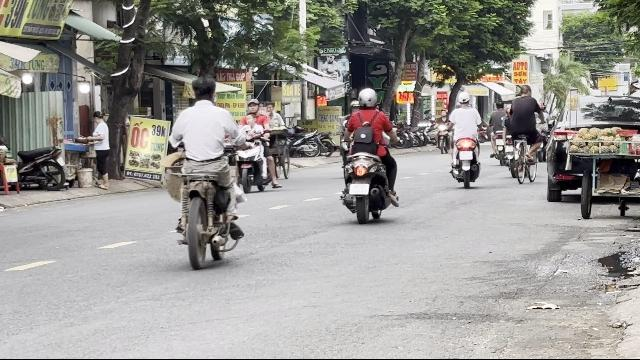helmet: (357, 87, 379, 108), (246, 97, 260, 115)
licenseplate: (349, 184, 368, 194)
motorcyclist: (161, 75, 247, 269), (336, 87, 400, 223), (234, 98, 280, 194)
nohelmet: (189, 76, 217, 103), (244, 112, 256, 126)
